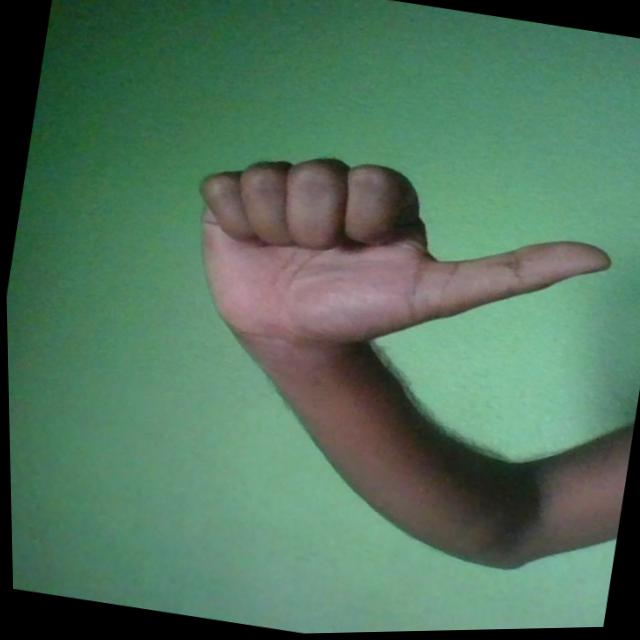Dislike: (169, 129, 628, 406)
